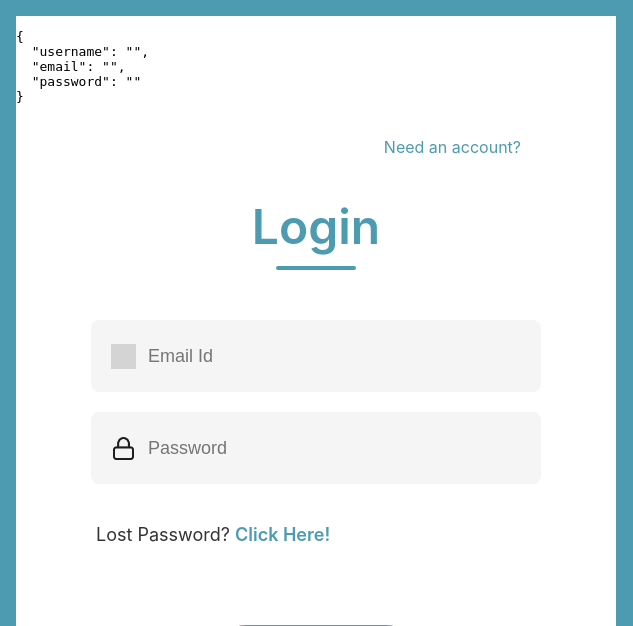
Test: App and LoginSignup component › toggles back to Login mode when Already have an account? is clicked
Click the text "Need an account?". click: (452, 147)
box: [384,137,521,157]
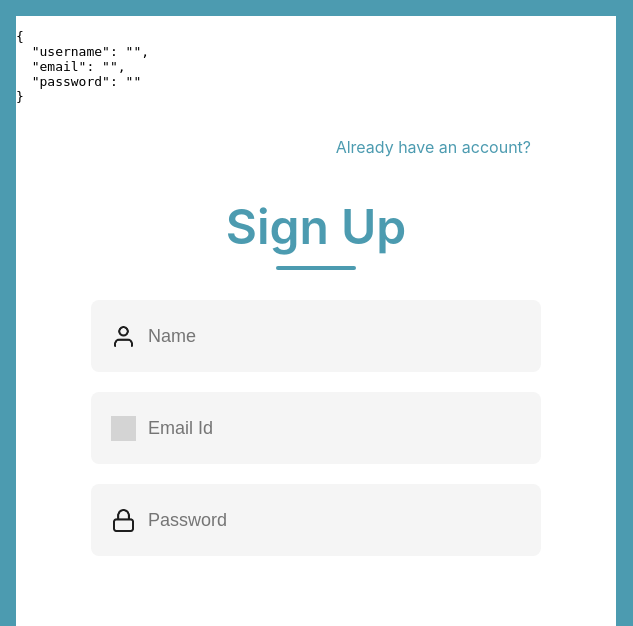
Expected: the field with placeholder "Email Id" is shown, [146,402,541,454]
Expected: the field with placeholder "Name" is shown, [146,310,541,362]
